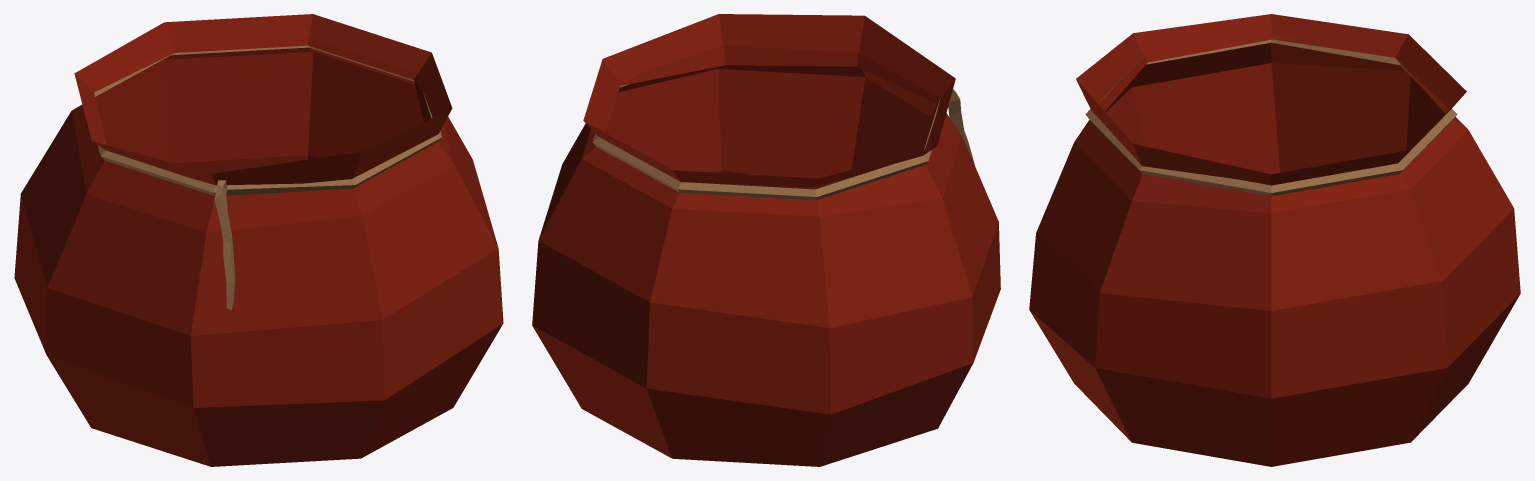
The model's file is christmas-bag.glb.
The picture shows the model from 3 angles, left to right: view 1: azimuth 30°, elevation 25°; view 2: azimuth 150°, elevation 25°; view 3: azimuth 270°, elevation 25°; orthographic projection.
Visible parts, largest first — view 1: Cylinder; view 2: Cylinder; view 3: Cylinder.
Boxes of the visible parts, x1=… form: Cylinder: x1=14, y1=14, x2=503, y2=466; Cylinder: x1=532, y1=14, x2=1000, y2=466; Cylinder: x1=1029, y1=14, x2=1520, y2=466.
Size of the model in its own units: 2.5 by 1.71 by 2.49.
Materials: 1 (1 with a texture image).
